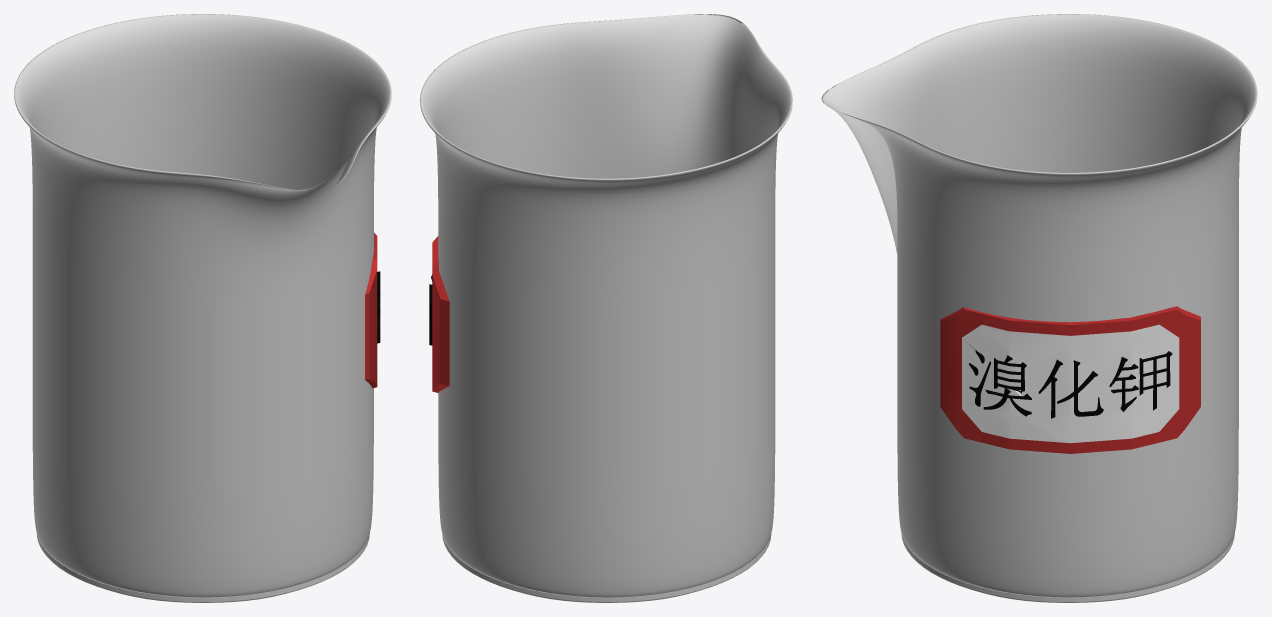
Rendered from KBr-beaker.gltf.
3 views of the same model, side by side, from view 1: azimuth 30°, elevation 25°; view 2: azimuth 150°, elevation 25°; view 3: azimuth 270°, elevation 25° (orthographic).
Parts seen in each view (by area): view 1: beaker, Line004; view 2: beaker, Line004; view 3: beaker, Line008, Line004, Text004.
Boxes of the visible parts, x1,y1,x2,y2 form: beaker: (14, 14, 391, 602); Line004: (365, 232, 377, 388); beaker: (420, 14, 792, 602); Line004: (432, 236, 449, 392); beaker: (821, 14, 1257, 602); Line008: (962, 324, 1179, 443); Line004: (940, 306, 1200, 453); Text004: (969, 350, 1172, 418).
Bounding box in the file's own units: 21.68 × 27.98 × 25.03.
